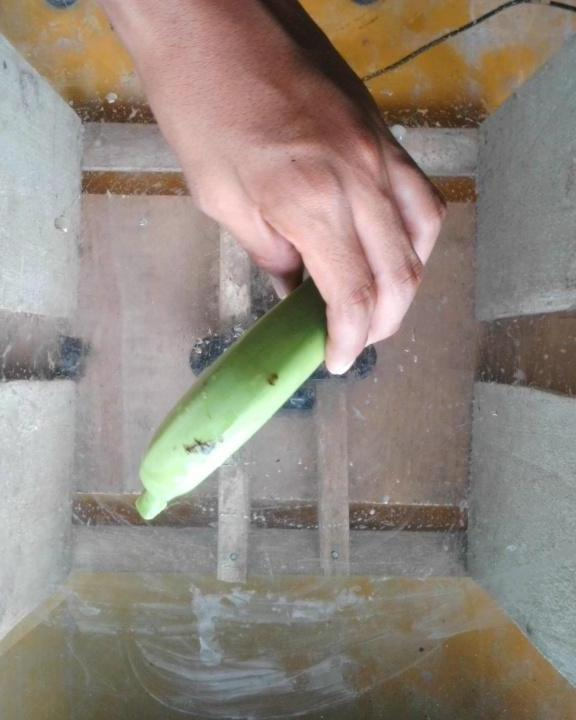CLASS B: (123, 276, 334, 530)
Class A: (174, 432, 218, 462), (258, 358, 284, 401)
